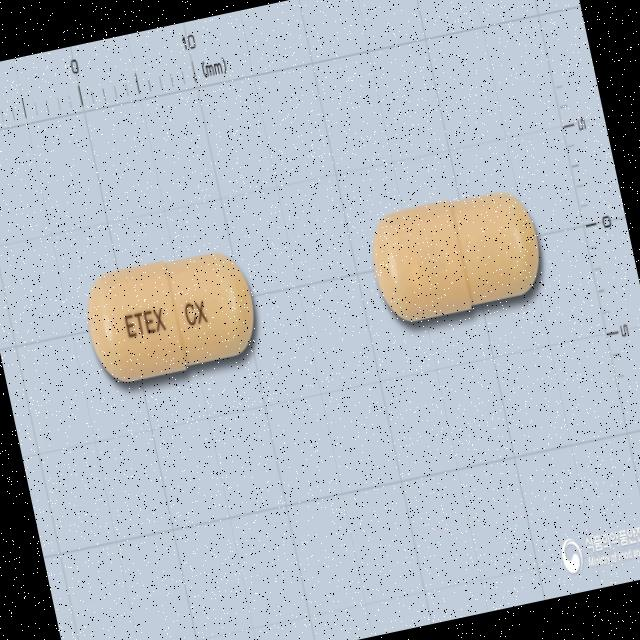Cefixime Cap- Etex: (73, 238, 270, 400), (359, 180, 553, 336)
